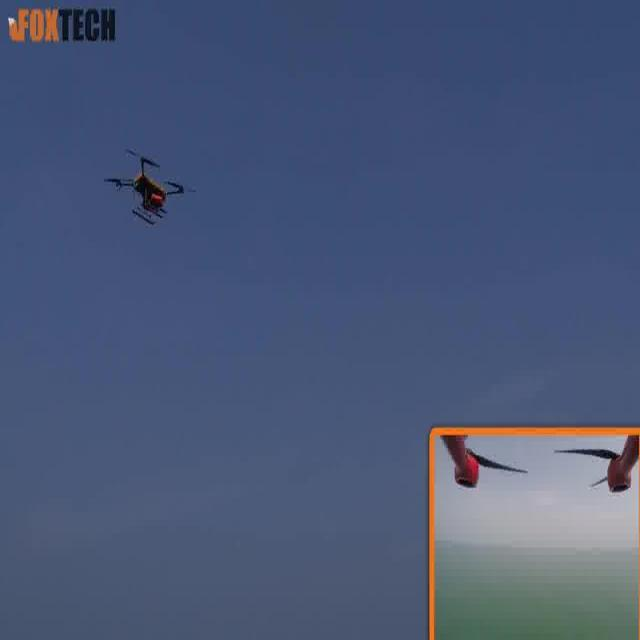drones: (98, 135, 198, 241)
